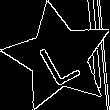L_NW: (33, 28, 84, 87)
